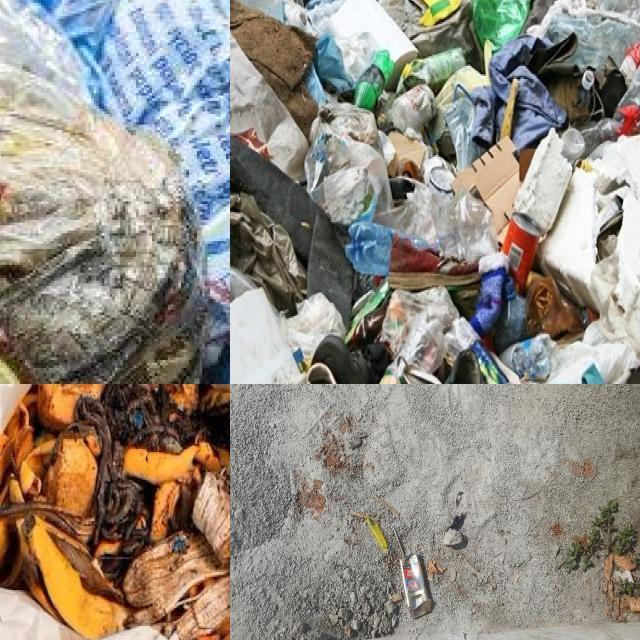Background: (230, 384, 640, 640)
Cig_pack: (400, 555, 432, 619)
Garbage: (230, 0, 640, 384), (0, 384, 230, 640)
Plastic: (366, 519, 388, 553), (625, 452, 628, 457), (523, 478, 524, 480)
Plastic_Bag: (305, 103, 393, 224), (381, 183, 498, 262), (536, 0, 640, 69), (381, 285, 460, 372), (397, 47, 466, 94), (393, 85, 436, 132)
Plastic_Container: (230, 289, 308, 384)
Plastic_bottle: (473, 0, 531, 51), (500, 333, 558, 380), (494, 275, 528, 354), (345, 221, 393, 274), (354, 49, 394, 110), (230, 266, 255, 303), (561, 127, 585, 162)
Tin_box: (502, 213, 541, 292)
contaminated_waste: (0, 66, 198, 384), (99, 0, 230, 220)
